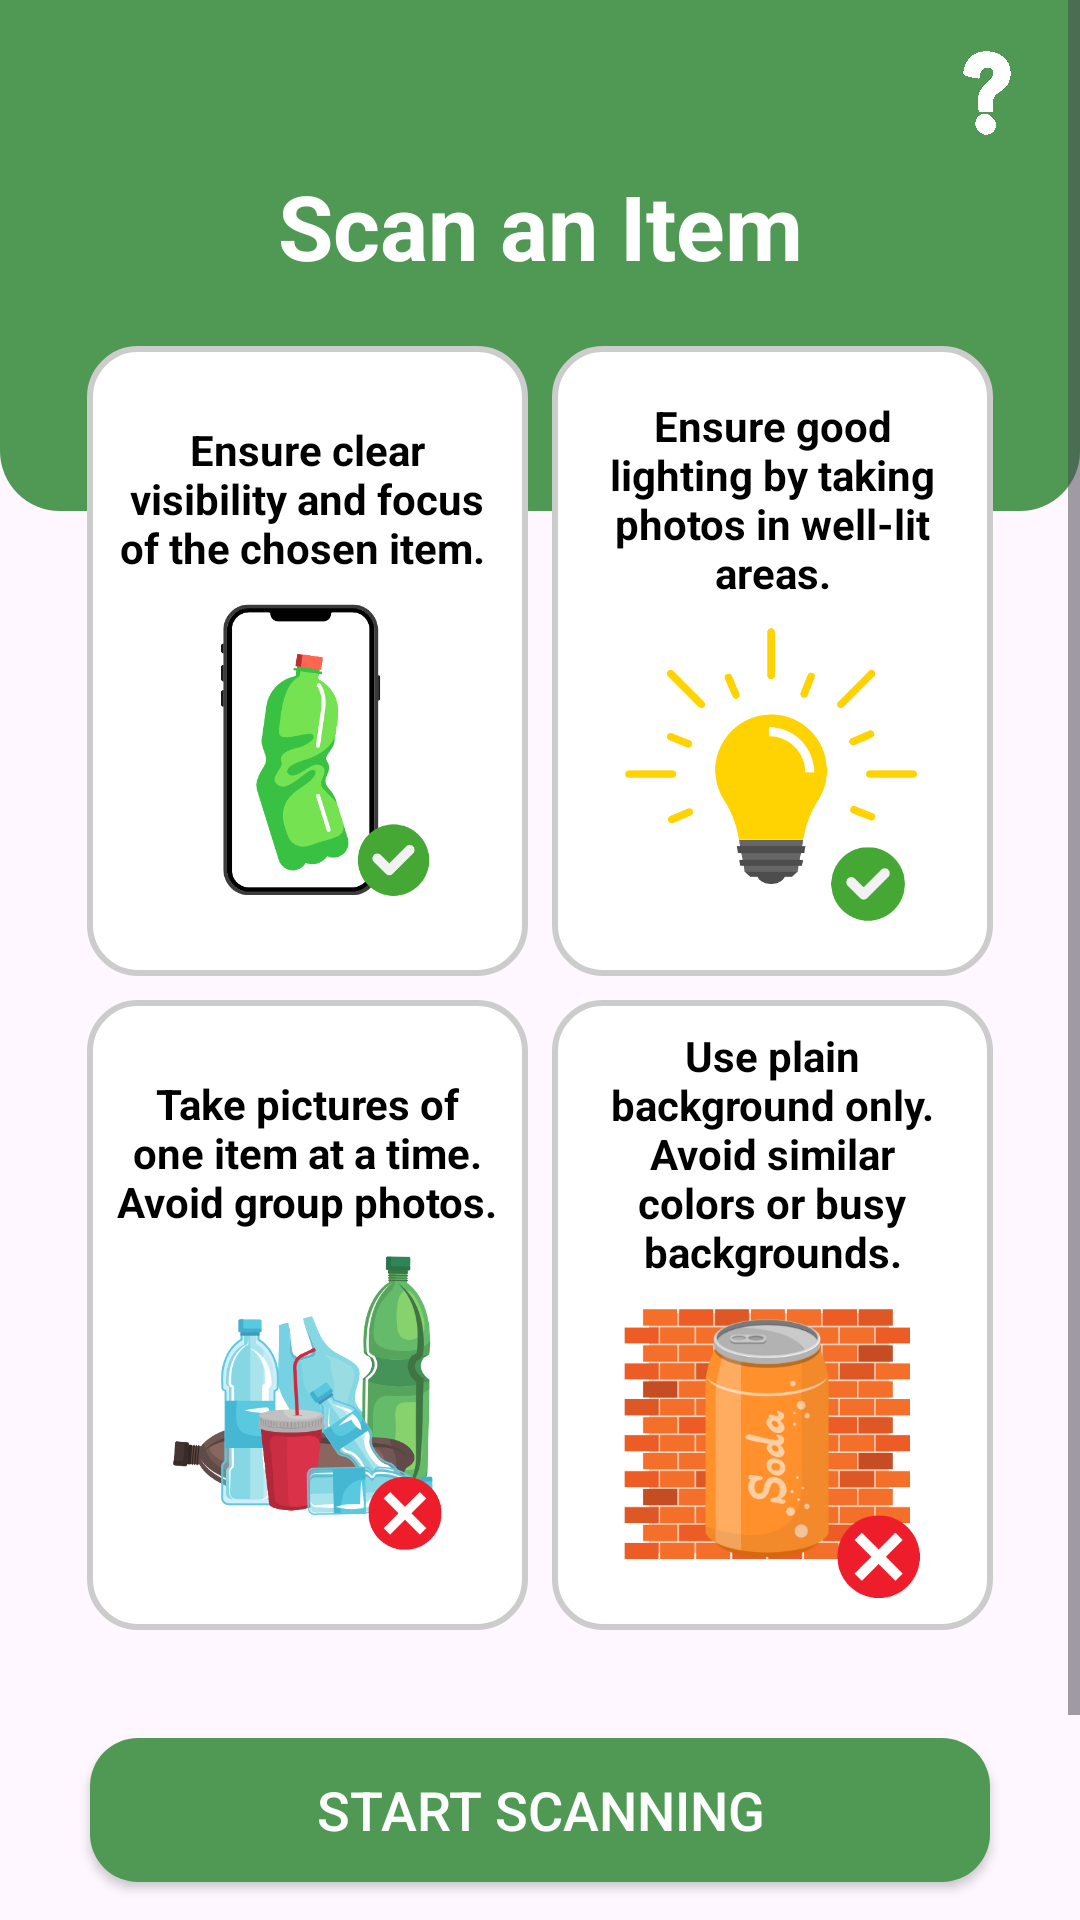

Icon bounding boxes for this 1080*1920 phone screenshot, format (x1, y1, x2, y2):
question mark: (963, 51, 1011, 135)
